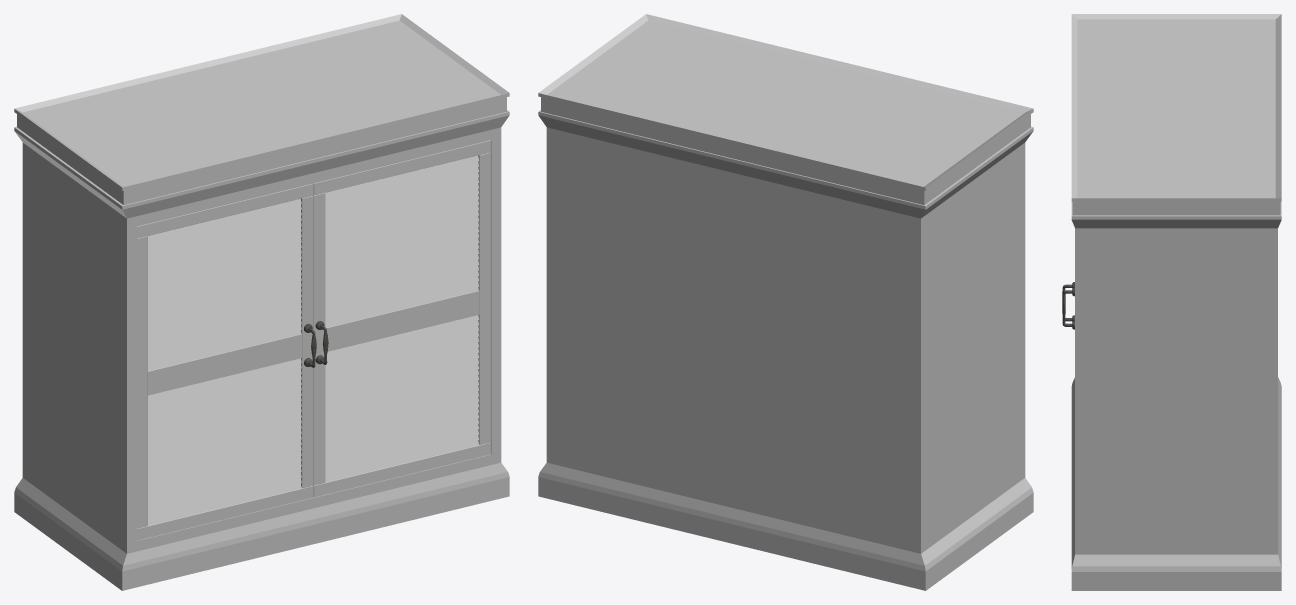
Rendered from armariocloset.fbx.
The picture shows the model from 3 angles, left to right: view 1: azimuth 30°, elevation 25°; view 2: azimuth 150°, elevation 25°; view 3: azimuth 270°, elevation 25°; orthographic projection. The views are drawn at different scales.
Parts seen in each view (by area): view 1: pCube8, polySurface195, polySurface84; view 2: pCube8; view 3: pCube8.
Part boxes in pixels (<box>): pCube8: <box>14,14,509,590</box>; polySurface195: <box>313,140,490,497</box>; polySurface84: <box>137,183,313,540</box>; pCube8: <box>538,14,1033,590</box>; pCube8: <box>1071,14,1281,590</box>.
Bounding box in the file's own units: 8.19 × 8.15 × 4.13.
